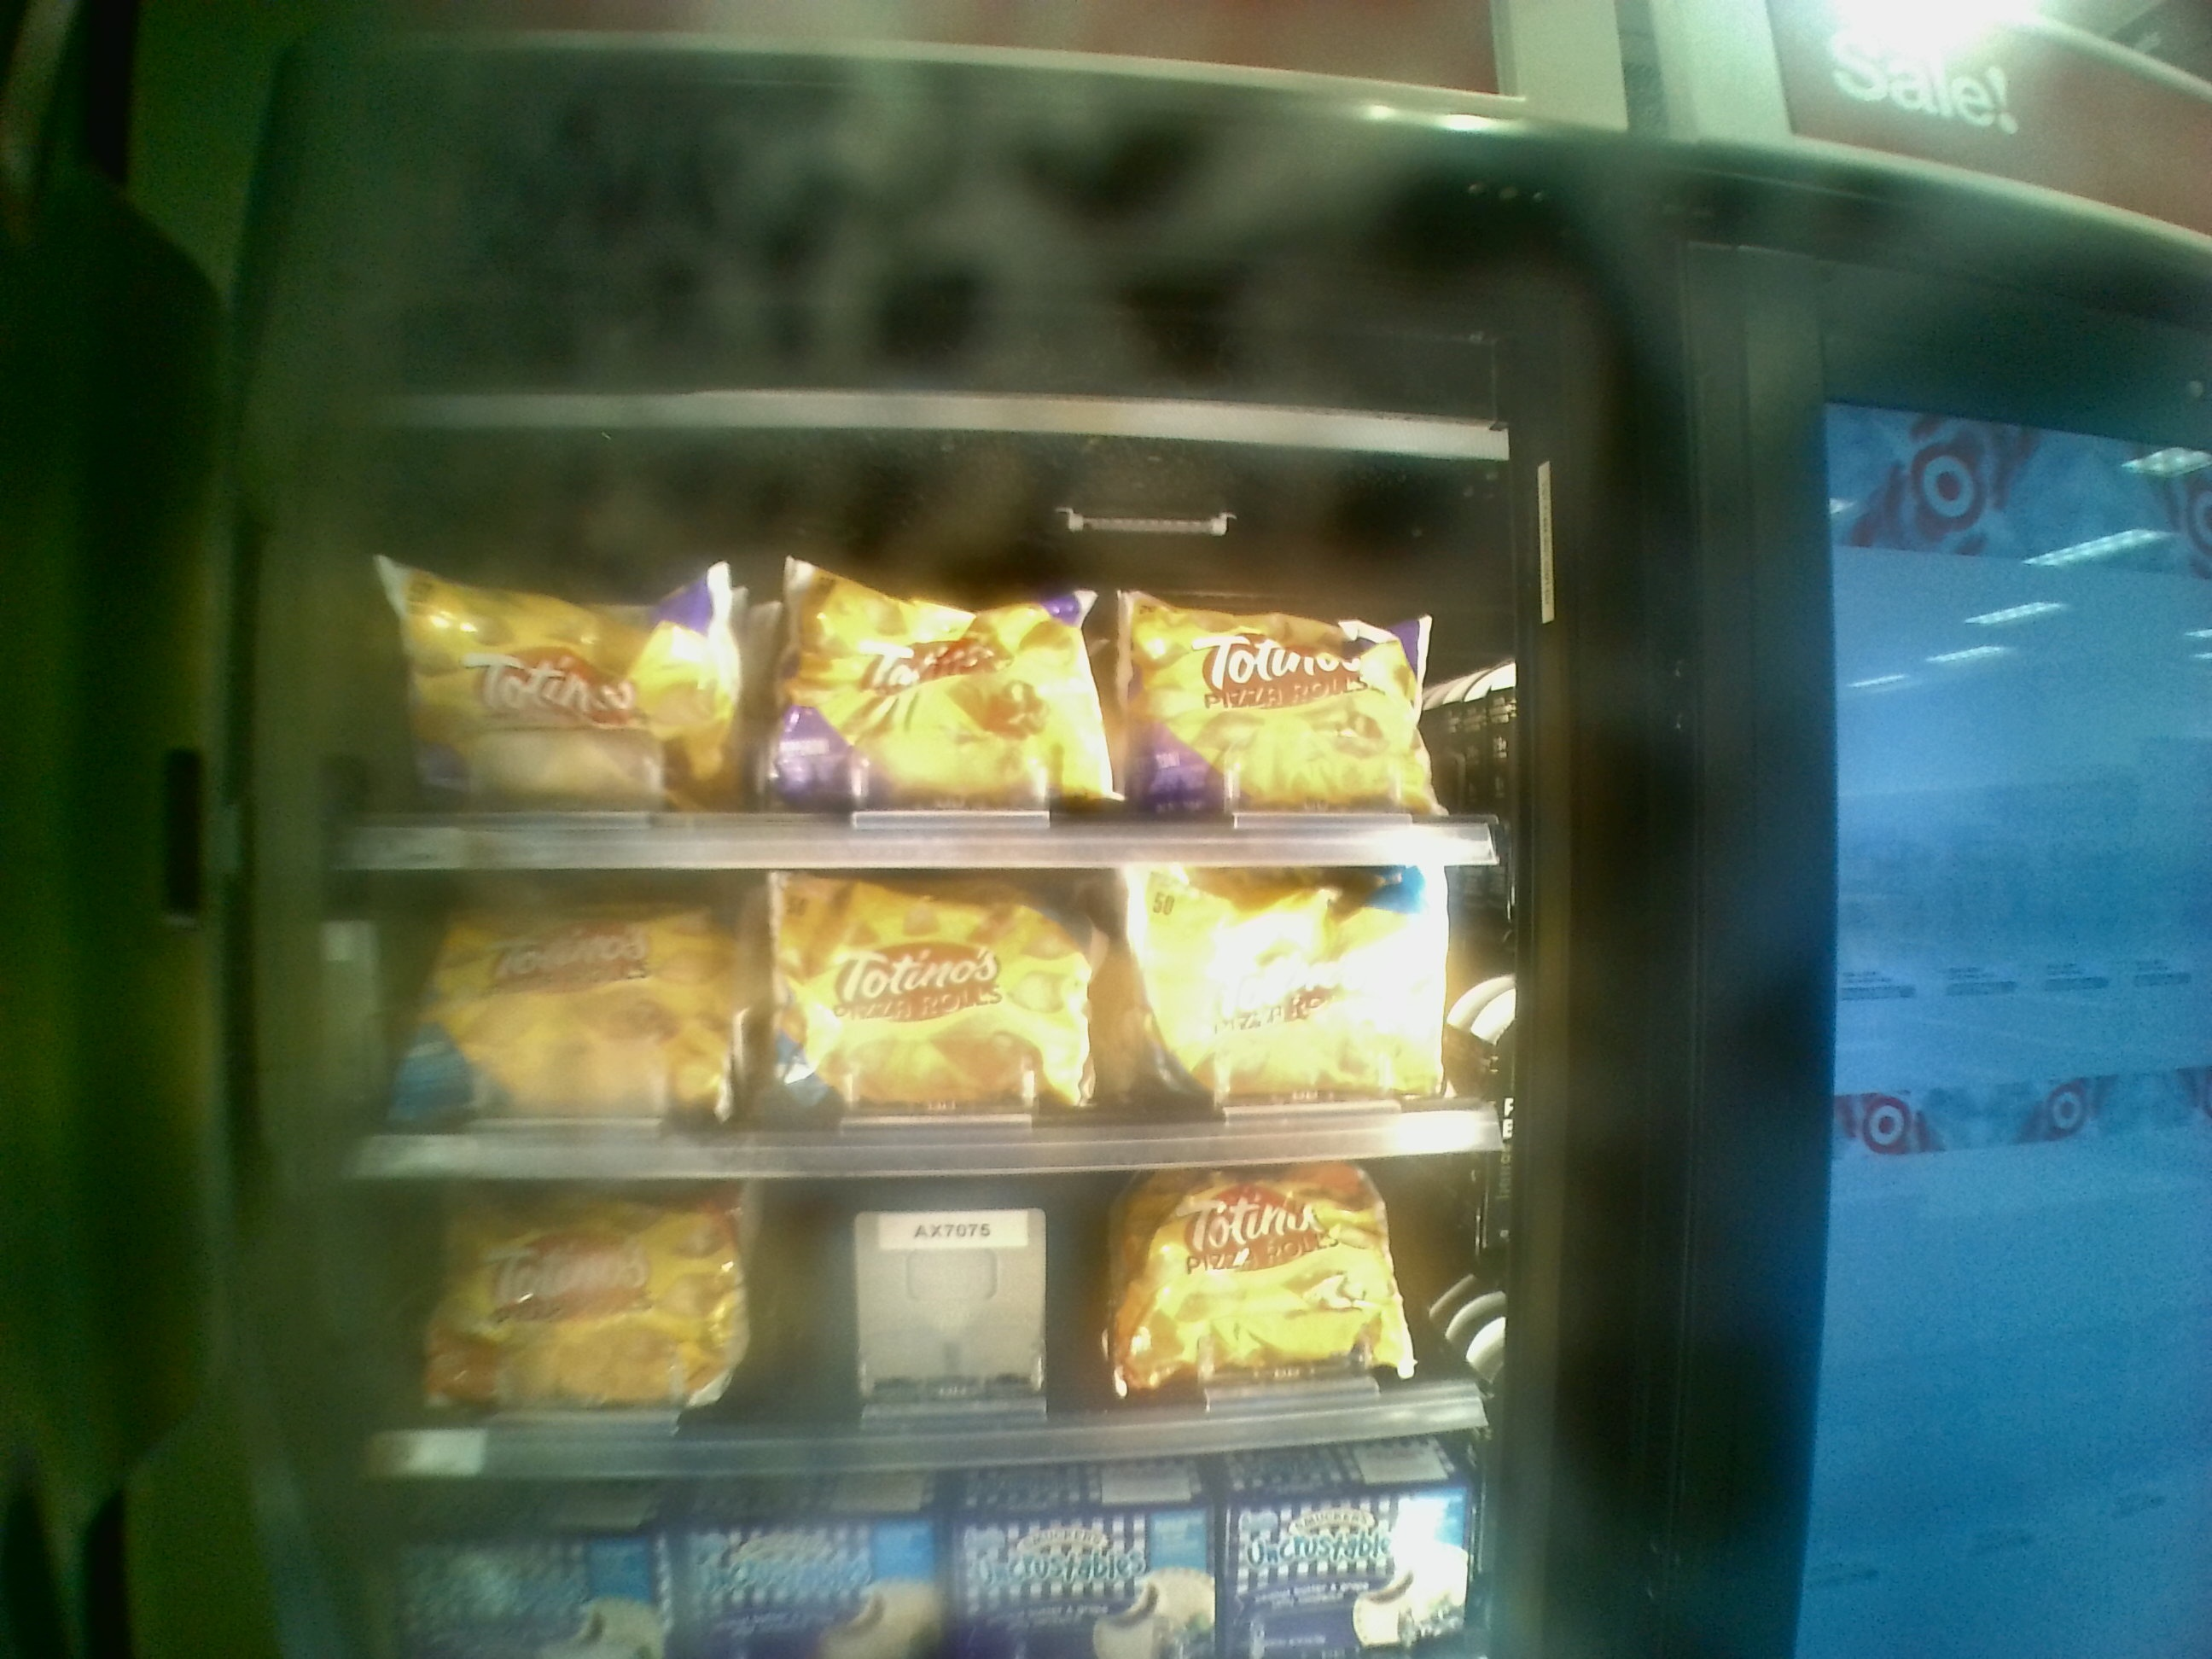shelf: (303, 457, 1508, 856), (307, 859, 1514, 1148), (291, 1148, 1489, 1432)
